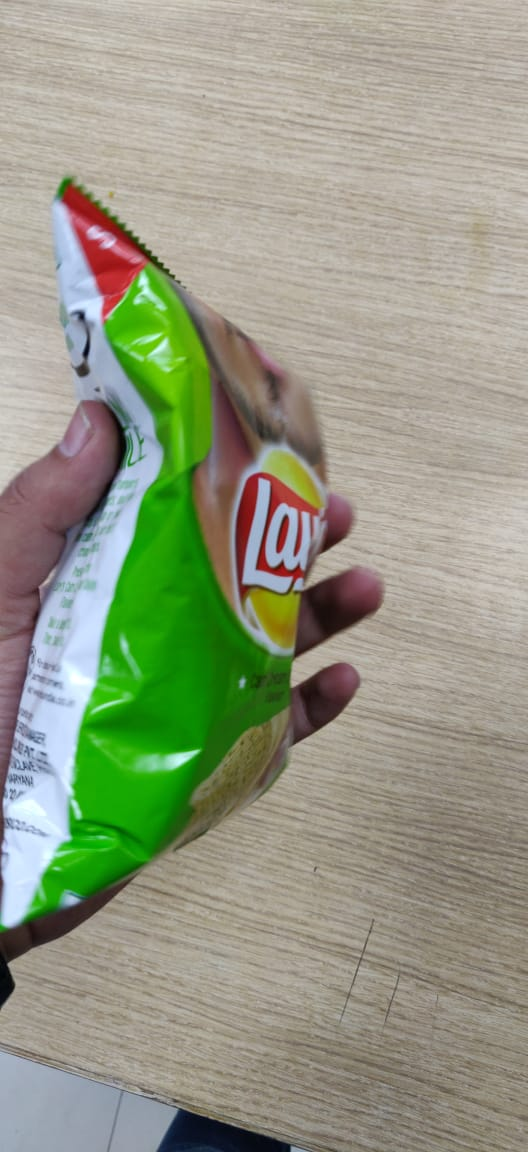lays chips: (8, 153, 392, 997)
